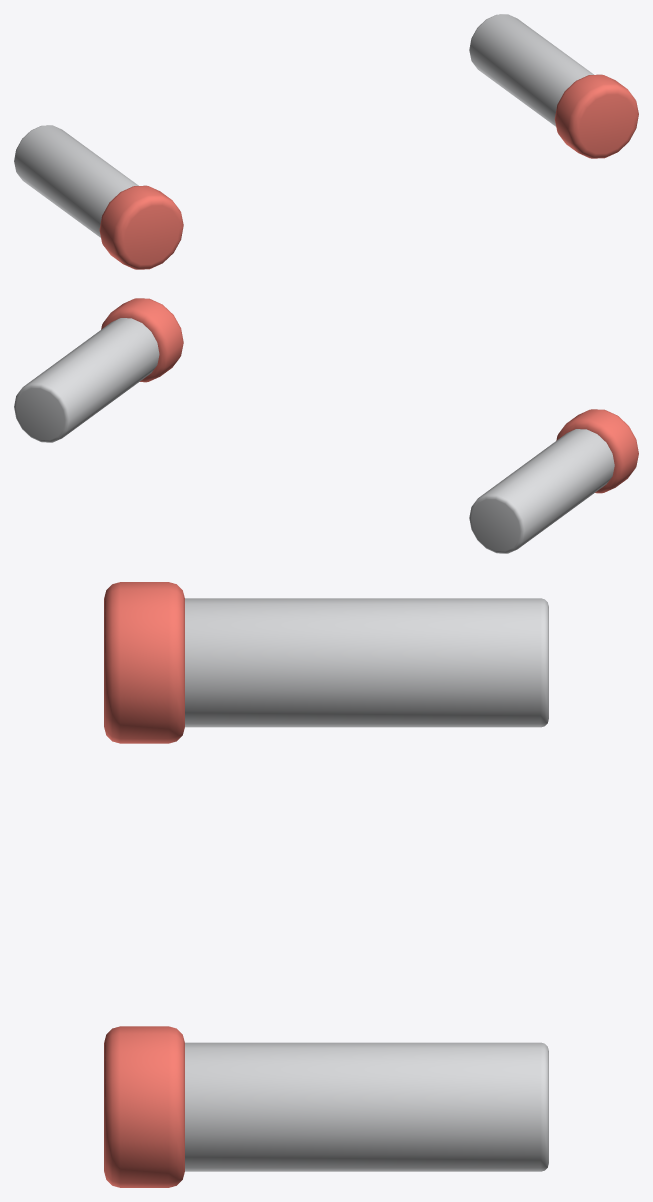
The model's file is Wydech_Dostawczy_Sportowy.fbx.
3 views of the same model, one above another, from view 1: azimuth 30°, elevation 25°; view 2: azimuth 150°, elevation 25°; view 3: azimuth 270°, elevation 25° (orthographic). The views are drawn at different scales.
Parts seen in each view (by area): view 1: Wydech_Dostawczy_Sportowy; view 2: Wydech_Dostawczy_Sportowy; view 3: Wydech_Dostawczy_Sportowy.
Part boxes in pixels (left/top/right/bottom): Wydech_Dostawczy_Sportowy: left=14, top=14, right=638, bottom=269; Wydech_Dostawczy_Sportowy: left=14, top=298, right=638, bottom=553; Wydech_Dostawczy_Sportowy: left=104, top=582, right=548, bottom=1187.
Bounding box in the file's own units: 1.5 × 0.2 × 0.55.
